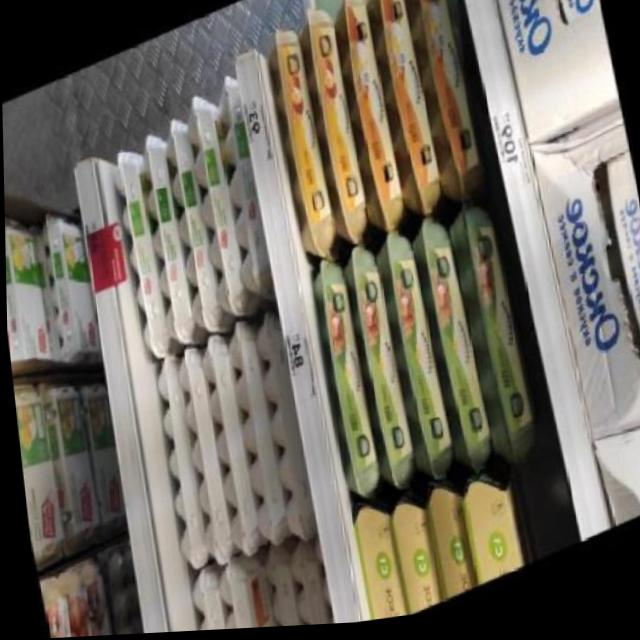Egg: (443, 191, 545, 485), (404, 209, 496, 491), (366, 224, 456, 495), (290, 0, 375, 260), (335, 240, 418, 506), (323, 0, 411, 246), (303, 252, 386, 512), (259, 16, 341, 273), (358, 0, 446, 231), (396, 0, 489, 217), (204, 67, 279, 312), (177, 87, 253, 326), (128, 125, 202, 353), (153, 113, 225, 344), (104, 141, 173, 362), (31, 198, 105, 380), (35, 370, 105, 554), (11, 370, 71, 575), (594, 153, 640, 377), (74, 374, 135, 542), (4, 202, 54, 367), (48, 554, 122, 638), (3, 189, 19, 365), (544, 0, 601, 35)
